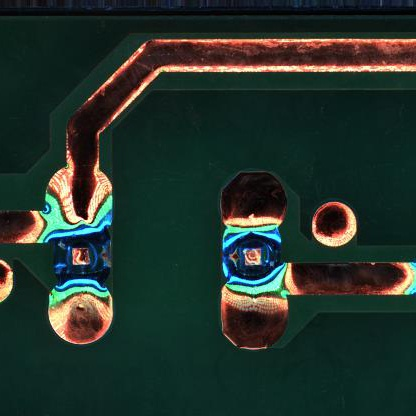spot: (49, 217, 115, 294), (223, 224, 284, 296)
